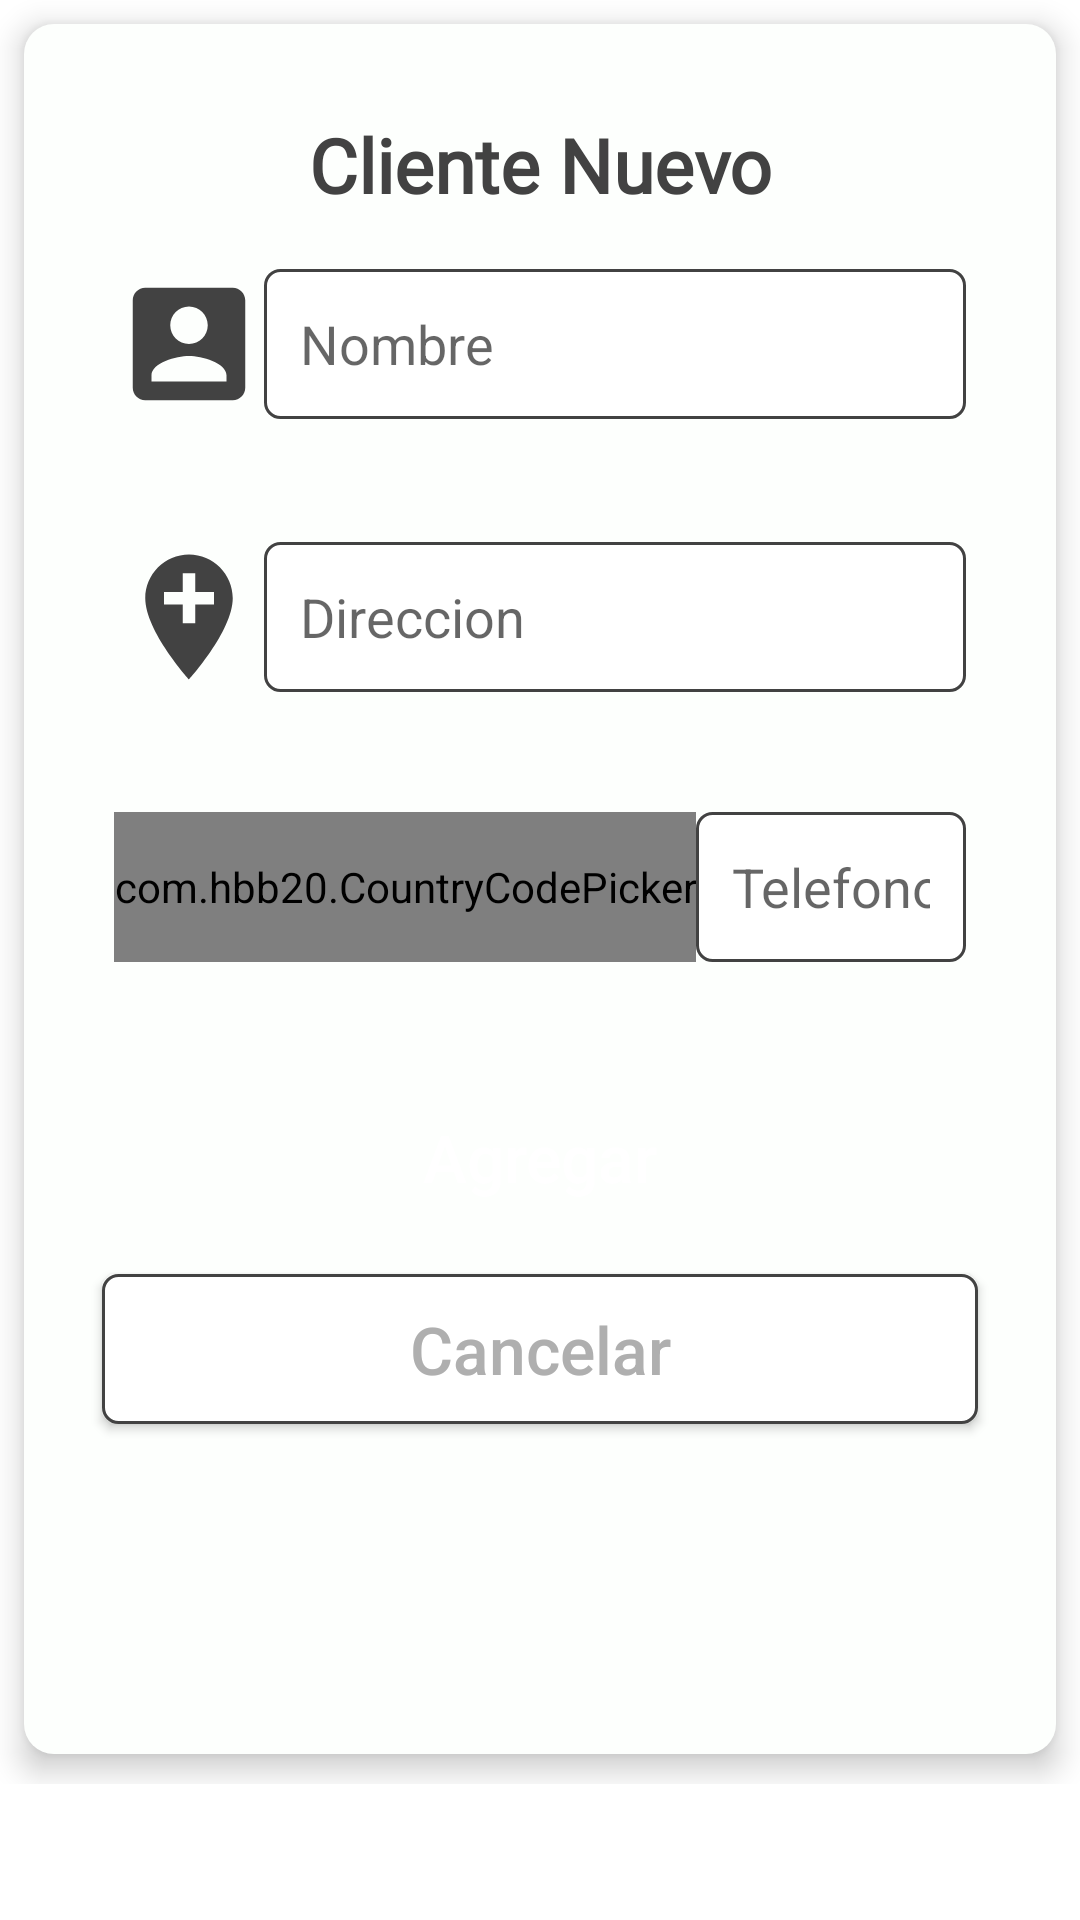

Icons on this 1080 × 1920 Android screen, each with its box as (x1, y1, x2, y2):
contactos: (132, 287, 246, 401)
